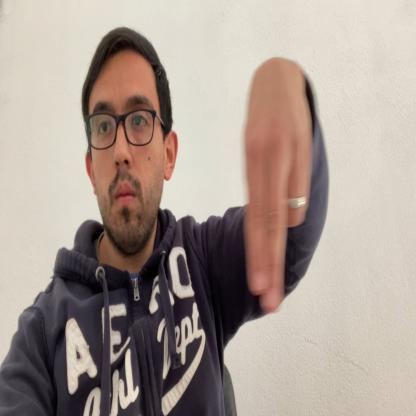N: (243, 60, 311, 311)
